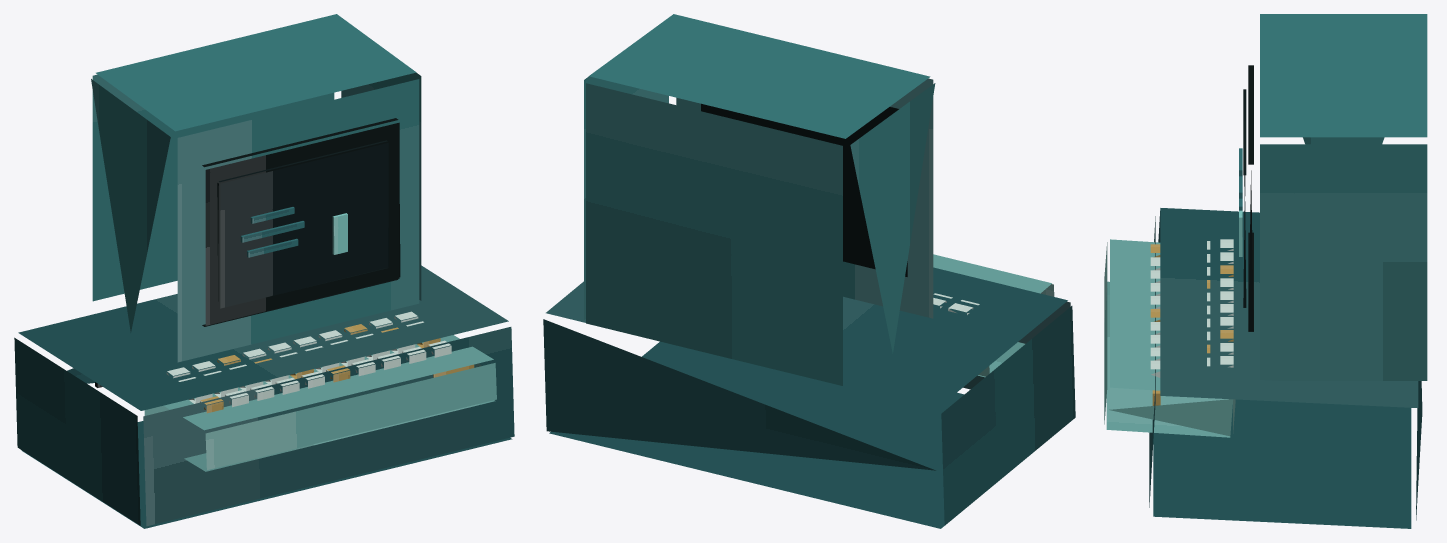
The model's file is retro_computer_terminal_teal.glb.
3 views of the same model, side by side, from view 1: azimuth 30°, elevation 25°; view 2: azimuth 150°, elevation 25°; view 3: azimuth 270°, elevation 25° (orthographic). The views are drawn at different scales.
Visible parts, largest first — view 1: MonitorShell, TerminalWedge, MonitorGlow, KeyboardBody, MonitorFace, ScreenGlyph_4; view 2: MonitorShell, TerminalWedge, MonitorFace, KeyboardBody; view 3: MonitorShell, TerminalWedge, KeyboardBody, MonitorFace, MonitorGlow.
Part boxes in pixels (<box>): MonitorShell: <box>91,14,421,362</box>; TerminalWedge: <box>14,265,514,528</box>; MonitorGlow: <box>217,140,388,308</box>; KeyboardBody: <box>144,335,496,471</box>; MonitorFace: <box>202,118,400,326</box>; ScreenGlyph_4: <box>332,213,347,254</box>; MonitorShell: <box>584,14,935,385</box>; TerminalWedge: <box>543,267,1075,528</box>; MonitorFace: <box>701,103,907,276</box>; KeyboardBody: <box>933,254,1054,377</box>; MonitorShell: <box>1260,14,1427,380</box>; TerminalWedge: <box>1149,208,1422,528</box>; KeyboardBody: <box>1104,239,1235,437</box>; MonitorFace: <box>1248,65,1253,331</box>; MonitorGlow: <box>1243,89,1246,307</box>.
Size of the model in its own units: 1.01 by 0.914 by 0.7379.
1 material, 1 textured.
